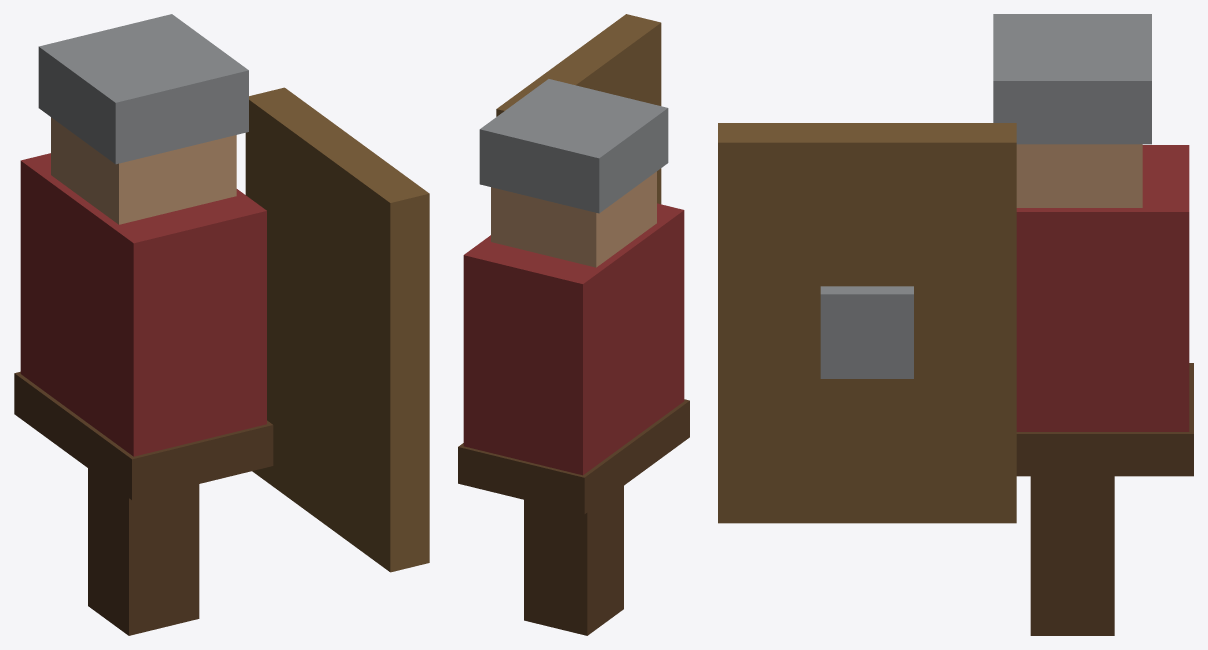
File: shieldman.glb
3 views of the same model, side by side, from view 1: azimuth 30°, elevation 25°; view 2: azimuth 150°, elevation 25°; view 3: azimuth 270°, elevation 25° (orthographic). The views are drawn at different scales.
Parts seen in each view (by area): view 1: Cube.009, Cube, Cube.003, Cube.004, Cube.001, Cube.002; view 2: Cube, Cube.003, Cube.004, Cube.001, Cube.002, Cube.009; view 3: Cube.009, Cube, Cube.003, Cube.004, Cube.010, Cube.001, Cube.002.
Part boxes in pixels (x1,y1,x2,y2): Cube.009: [245, 87, 429, 572]; Cube: [20, 153, 266, 456]; Cube.003: [38, 14, 248, 164]; Cube.004: [88, 468, 199, 635]; Cube.001: [14, 371, 273, 500]; Cube.002: [51, 117, 236, 224]; Cube: [463, 203, 684, 475]; Cube.003: [479, 79, 668, 213]; Cube.004: [524, 486, 623, 635]; Cube.001: [458, 399, 689, 514]; Cube.002: [491, 171, 656, 267]; Cube.009: [496, 14, 661, 204]; Cube.009: [718, 123, 1016, 523]; Cube: [1016, 145, 1189, 431]; Cube.003: [993, 14, 1151, 144]; Cube.004: [1030, 476, 1114, 635]; Cube.010: [820, 286, 913, 378]; Cube.001: [1016, 363, 1193, 476]; Cube.002: [1016, 144, 1142, 207].
Bounding box in the file's own units: 5.1 × 13.5 × 10.2.
